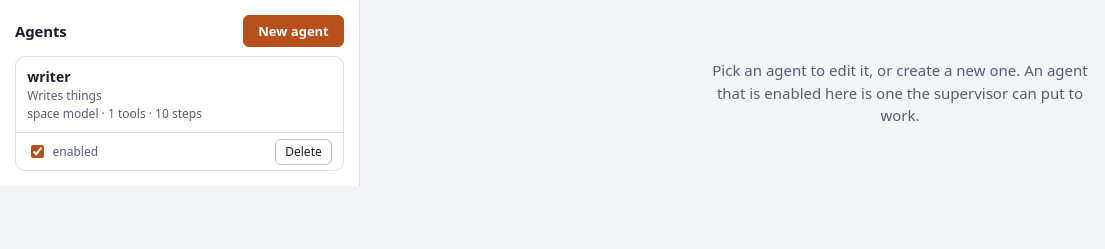
Test case: editing › reports a refused delete beside the roster rather than hiding the button
The image size is (1105, 249).
Step 1. Click the button with test id "delete-writer" → (304, 152), box [275,139,332,165]
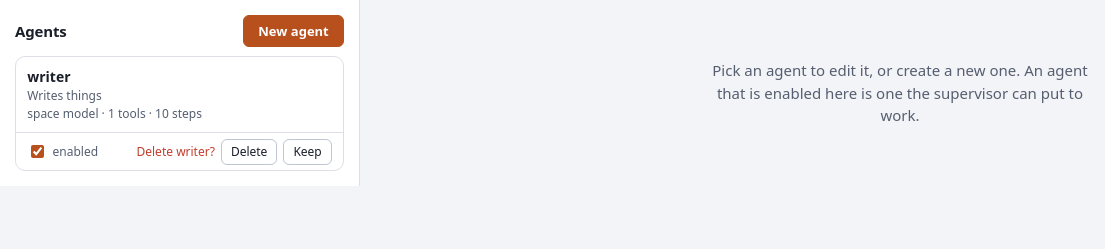
Step 2. Click the button with aria-label "Delete writer" → (249, 152), box [221,139,277,165]
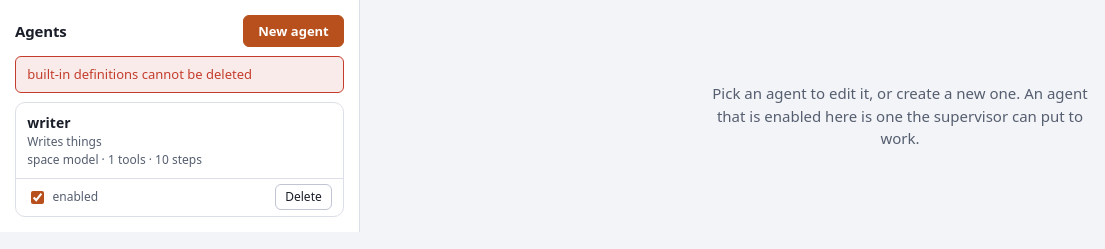
Expected: the message with test id "roster-error" shows "cannot be deleted", [27,65,252,83]
